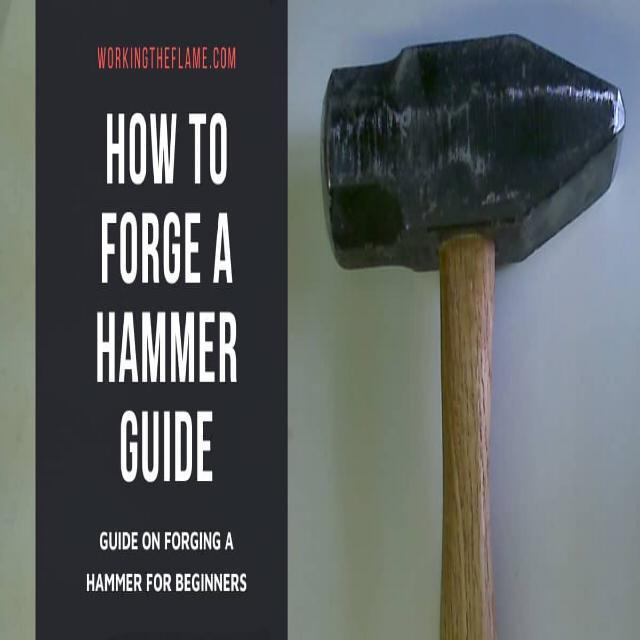hammer: (321, 17, 629, 640)
